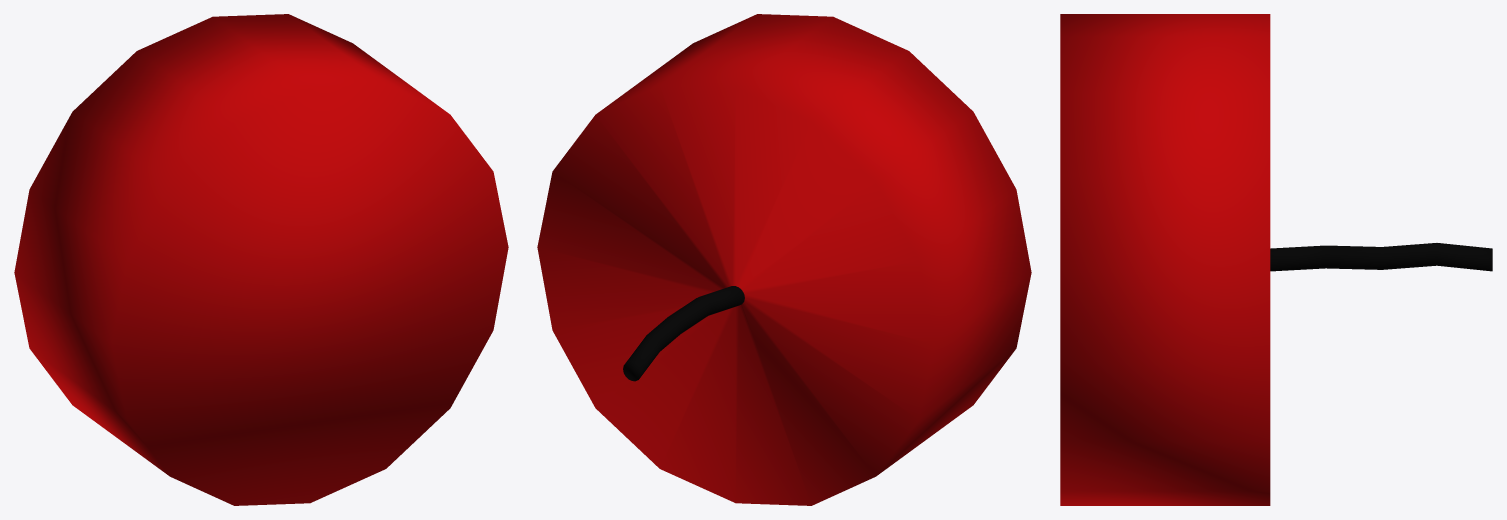
The model's file is Candle.fbx.
3 renders of one model, left to right at view 1: azimuth 30°, elevation 25°; view 2: azimuth 150°, elevation 25°; view 3: azimuth 270°, elevation 25°, orthographic. The views are drawn at different scales.
Visible parts, largest first — view 1: Candle; view 2: Candle; view 3: Candle.
Part boxes in pixels (x1,y1,x2,y2): Candle: [14, 14, 508, 505]; Candle: [537, 14, 1031, 505]; Candle: [1060, 14, 1492, 505].
Size of the model in its own units: 7.69 by 7.69 by 6.75.
